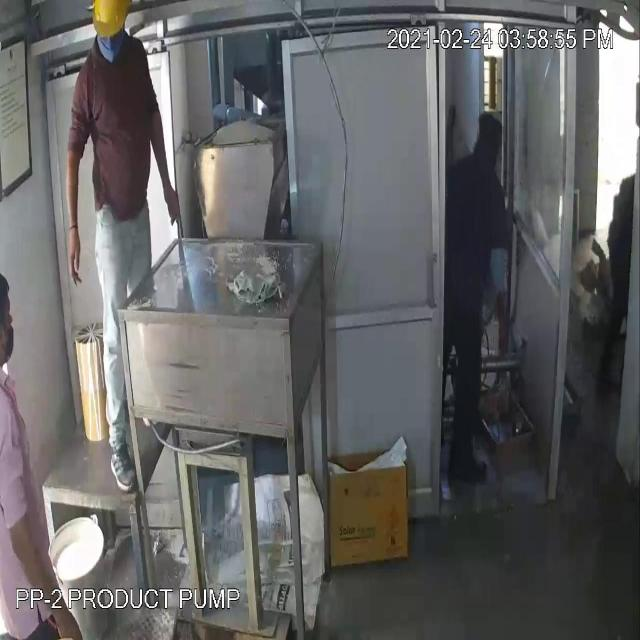helmet: (87, 1, 133, 46)
